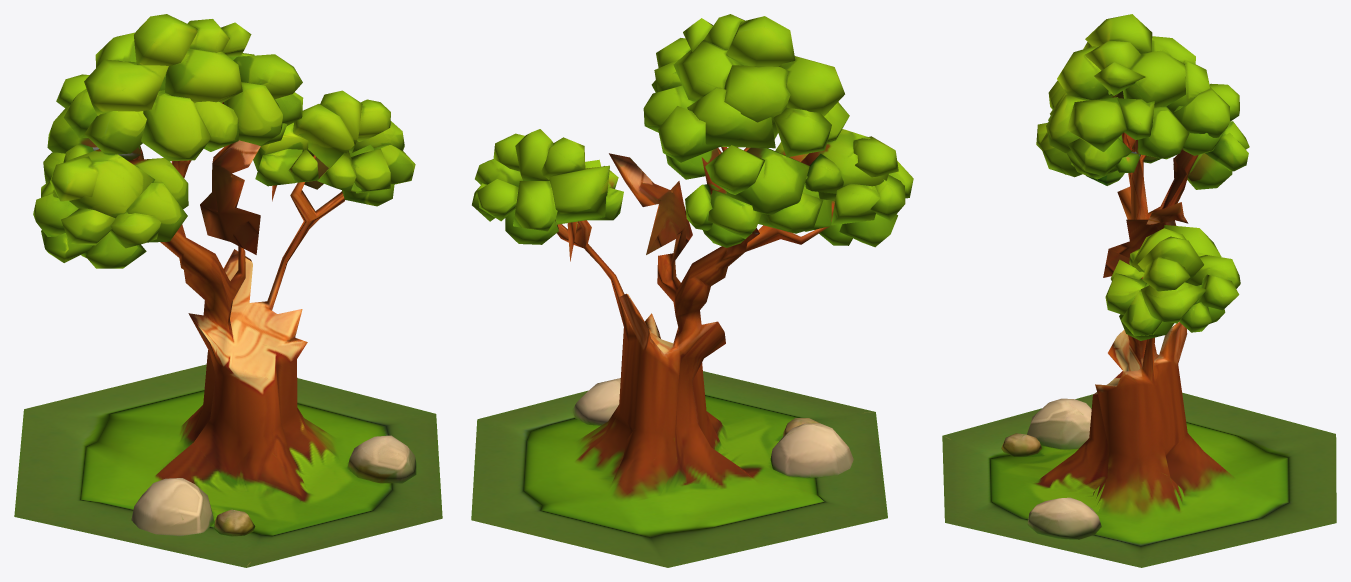
File: etapa25.glb
3 renders of one model, left to right at view 1: azimuth 30°, elevation 25°; view 2: azimuth 150°, elevation 25°; view 3: azimuth 270°, elevation 25°, orthographic. The views are drawn at different scales.
Size of the model in its own units: 0.9361 by 0.9994 by 0.8385.
Materials: 1 (1 with a texture image).
